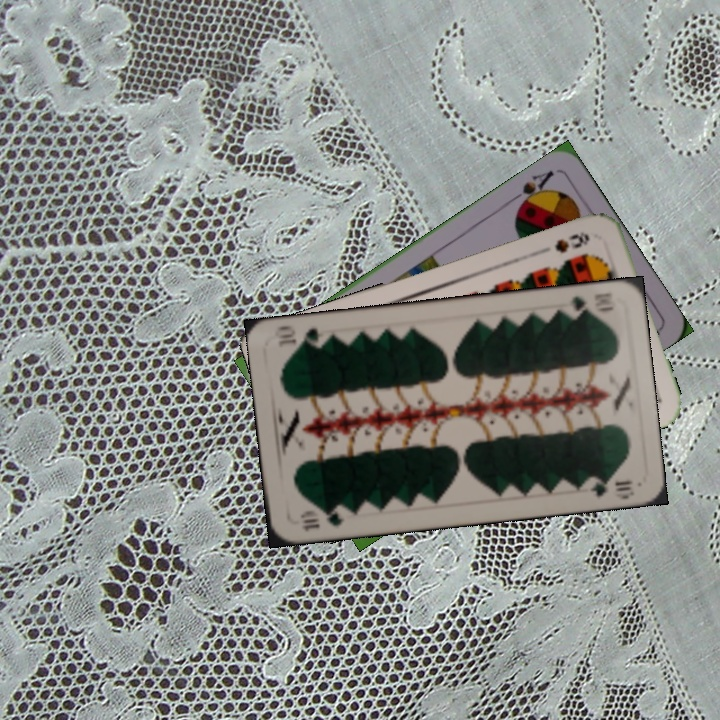G10: (296, 504, 346, 535), (560, 292, 617, 319)
S8: (550, 227, 592, 256)
SA: (506, 166, 557, 214)
